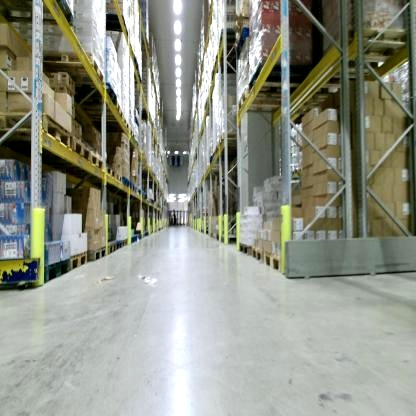pallets: (0, 111, 75, 151), (36, 251, 89, 286), (239, 244, 282, 276), (69, 138, 107, 173), (87, 245, 110, 266), (105, 169, 125, 182), (108, 241, 126, 255)
